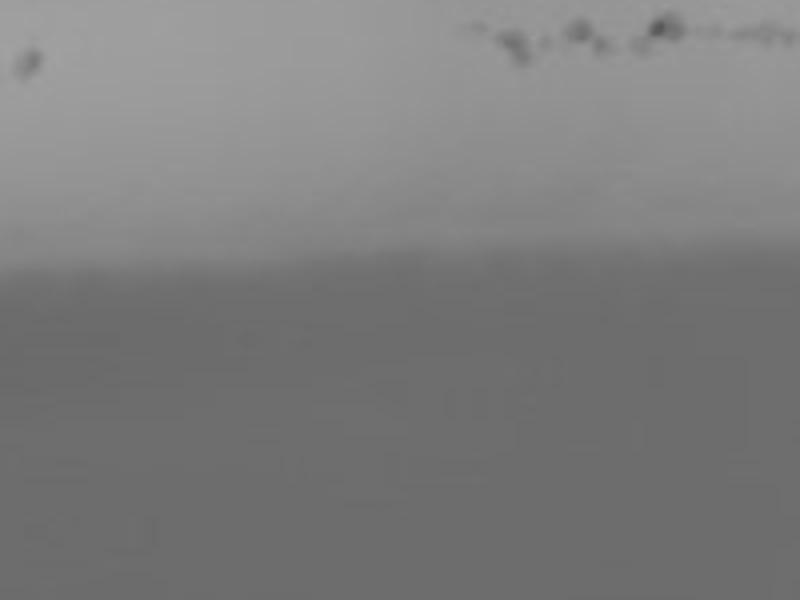defect: (16, 46, 46, 82), (651, 10, 688, 39), (496, 24, 530, 51), (561, 15, 594, 40), (754, 17, 779, 50), (627, 34, 651, 57), (460, 19, 489, 37), (727, 23, 751, 44), (699, 18, 722, 38), (513, 51, 533, 72), (531, 33, 551, 54), (594, 37, 614, 54), (781, 28, 800, 45)
